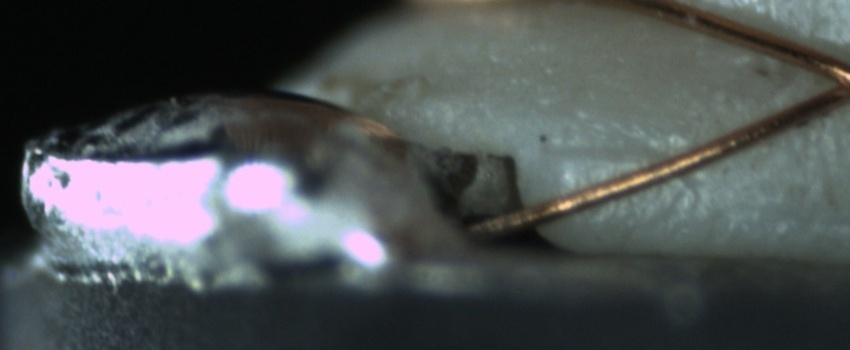CL: (802, 51, 850, 117)
DL: (543, 121, 682, 185)
